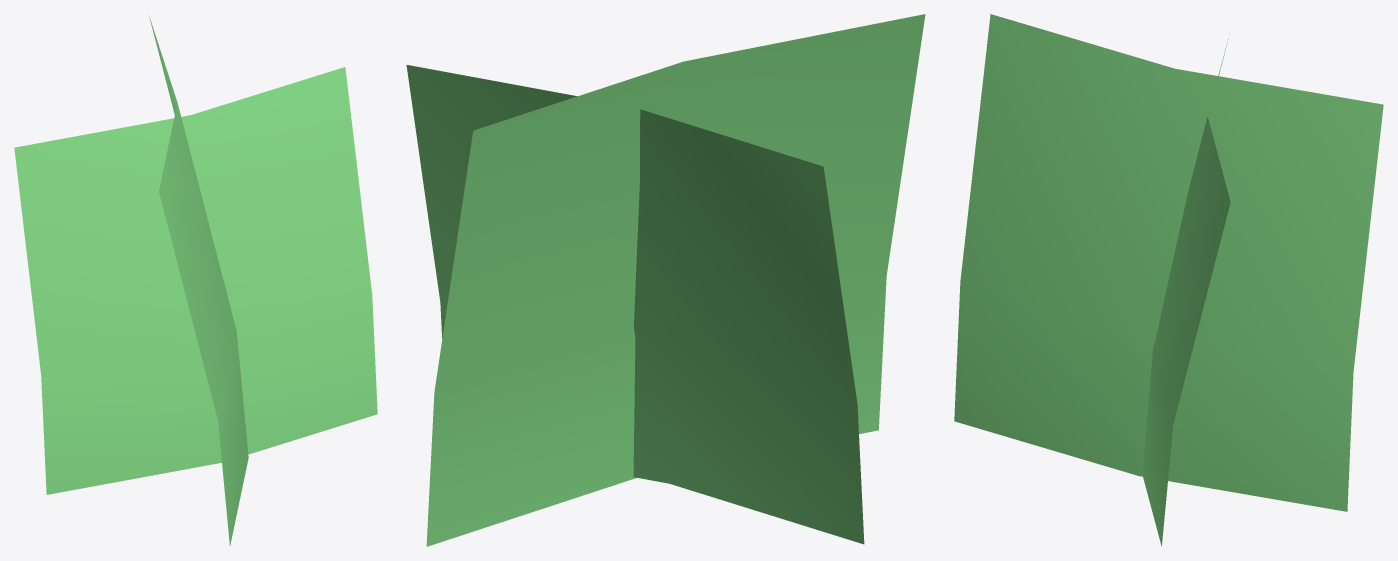
The model's file is GrassPlanes_a_TwoS_04.fbx.
3 renders of one model, left to right at view 1: azimuth 30°, elevation 25°; view 2: azimuth 150°, elevation 25°; view 3: azimuth 270°, elevation 25°, orthographic. The views are drawn at different scales.
Visible parts, largest first — view 1: GrassPlanes_a_TwoS_04; view 2: GrassPlanes_a_TwoS_04; view 3: GrassPlanes_a_TwoS_04.
Boxes of the visible parts, <box> form: GrassPlanes_a_TwoS_04: <box>14,14,377,545</box>; GrassPlanes_a_TwoS_04: <box>406,14,925,546</box>; GrassPlanes_a_TwoS_04: <box>954,14,1383,546</box>.
Bounding box in the file's own units: 57.71 × 59.32 × 60.88.
